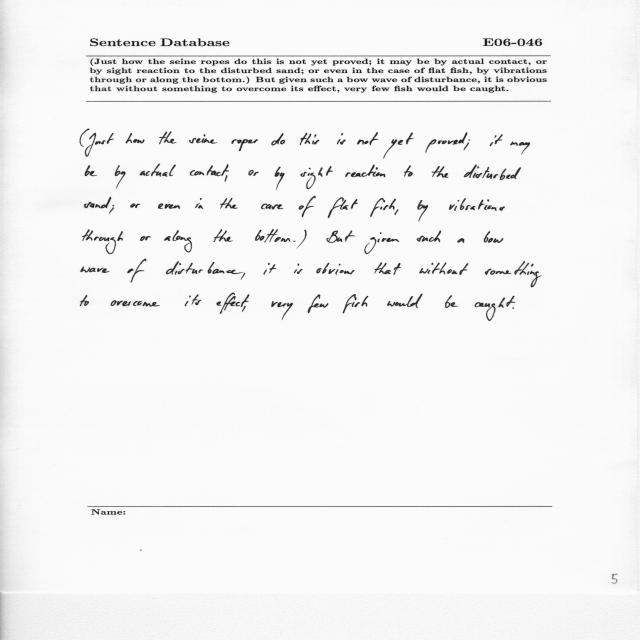word: (485, 262, 542, 288), (166, 261, 243, 275), (82, 230, 123, 255), (475, 296, 516, 321), (425, 133, 468, 153), (464, 165, 521, 180), (384, 133, 414, 159), (364, 232, 399, 254), (300, 166, 333, 189), (80, 129, 106, 157), (449, 198, 505, 211), (190, 164, 229, 182), (217, 293, 250, 314), (419, 262, 469, 275), (328, 197, 358, 218), (164, 231, 192, 253), (387, 294, 423, 308), (343, 294, 368, 314), (370, 198, 396, 217), (345, 165, 386, 177), (255, 229, 290, 243), (316, 263, 355, 275), (128, 259, 147, 283), (140, 164, 176, 176), (308, 294, 328, 313), (326, 230, 355, 243), (299, 196, 316, 217), (374, 262, 401, 275), (110, 300, 160, 307), (231, 139, 258, 151), (85, 197, 112, 208), (277, 302, 293, 320), (357, 132, 379, 145), (115, 165, 126, 189), (417, 231, 441, 242), (510, 142, 530, 155), (213, 229, 233, 242), (189, 135, 217, 144), (418, 200, 429, 222), (275, 167, 285, 190), (300, 133, 319, 145), (484, 231, 503, 243), (159, 132, 176, 145), (432, 166, 449, 178), (220, 198, 238, 209), (126, 133, 145, 143), (272, 133, 286, 146), (297, 230, 307, 248), (185, 295, 201, 306), (445, 295, 458, 308), (81, 267, 109, 273), (263, 263, 277, 275), (490, 135, 503, 147), (85, 166, 97, 177), (158, 203, 180, 209), (261, 204, 283, 210), (337, 133, 346, 145), (404, 166, 413, 177), (80, 295, 89, 306), (294, 264, 303, 274), (195, 198, 203, 209), (107, 133, 114, 144), (464, 140, 470, 151), (140, 236, 151, 241), (271, 301, 278, 307), (109, 205, 114, 213), (130, 204, 140, 208), (248, 170, 254, 176), (458, 238, 465, 243), (241, 273, 245, 280), (253, 172, 259, 176), (395, 209, 399, 215), (294, 241, 296, 242), (512, 308, 514, 309)
